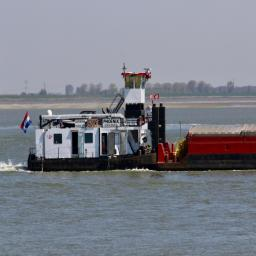tugboat: (21, 61, 170, 174)
